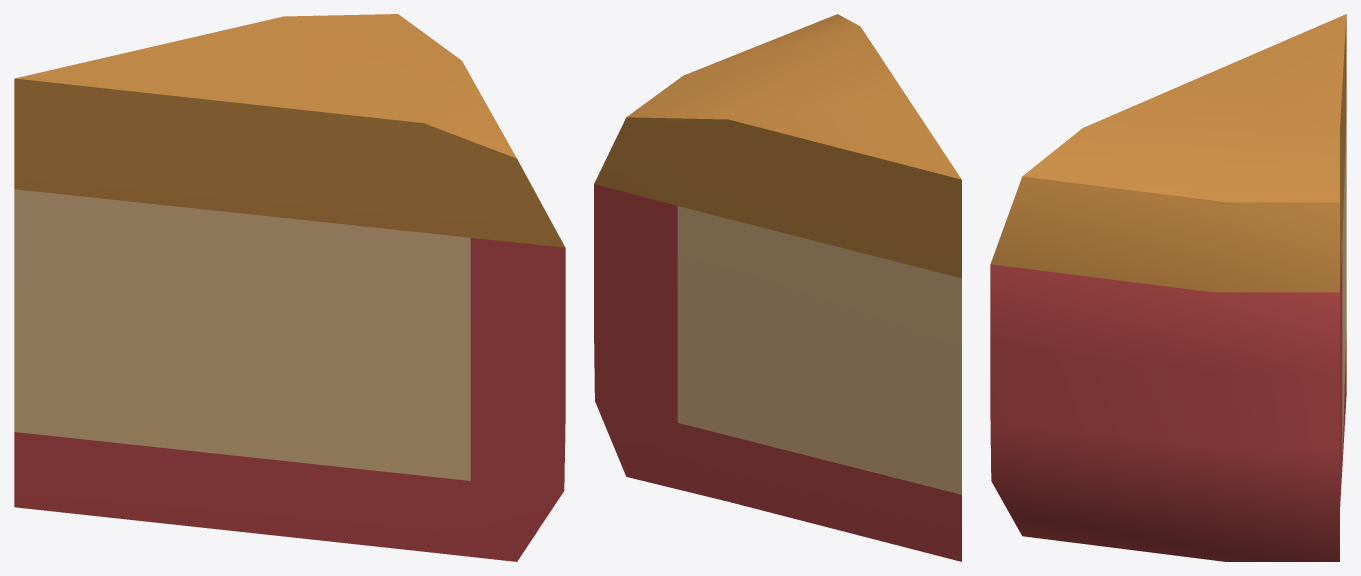
Rendered from mooncake_eighth.fbx.
3 renders of one model, left to right at view 1: azimuth 30°, elevation 25°; view 2: azimuth 150°, elevation 25°; view 3: azimuth 270°, elevation 25°, orthographic. The views are drawn at different scales.
Visible parts, largest first — view 1: mooncake_eighth1; view 2: mooncake_eighth1; view 3: mooncake_eighth1.
Boxes of the visible parts, x1,y1,x2,y2 form: mooncake_eighth1: (14,14,565,561); mooncake_eighth1: (594,14,961,561); mooncake_eighth1: (990,14,1346,561).
Bounding box in the file's own units: 0.5014 × 0.4937 × 0.4164.
